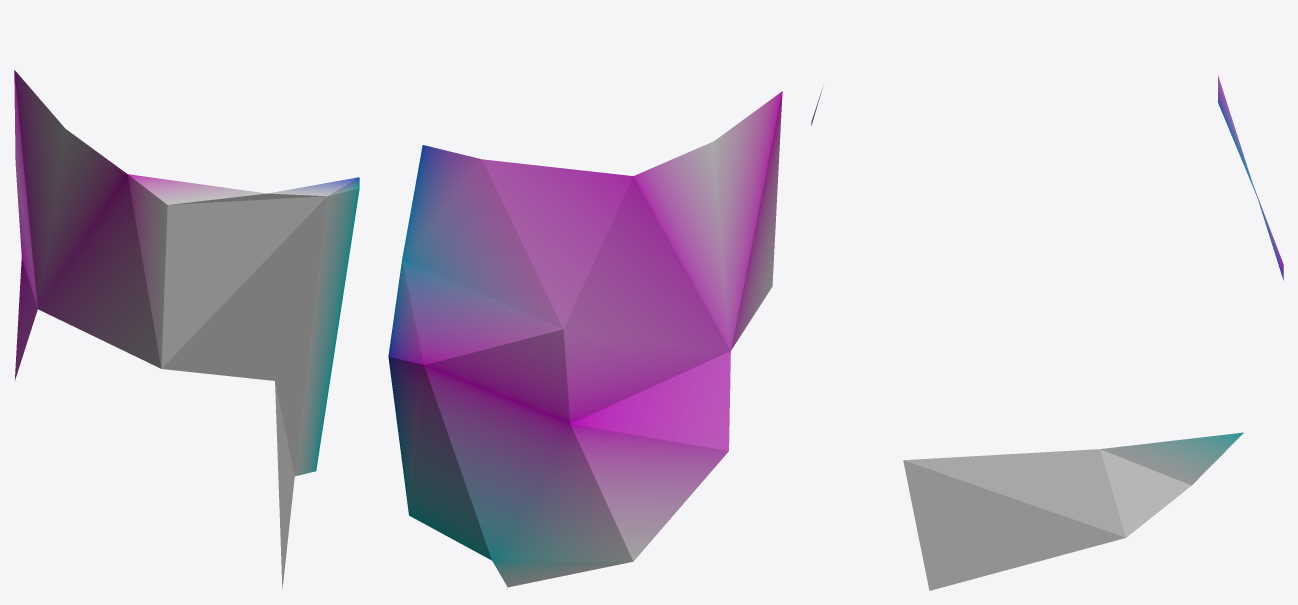
3 views of the same model, side by side, from view 1: azimuth 30°, elevation 25°; view 2: azimuth 150°, elevation 25°; view 3: azimuth 270°, elevation 25° (orthographic). The views are drawn at different scales.
Parts seen in each view (by area): view 1: model_111F; view 2: model_111F; view 3: model_111F.
Boxes of the visible parts, box(x1,y1,x2,y2) form: model_111F: box(14, 70, 359, 589); model_111F: box(388, 91, 782, 589); model_111F: box(811, 75, 1283, 590).
Bounding box in the file's own units: 20 × 42 × 36.
